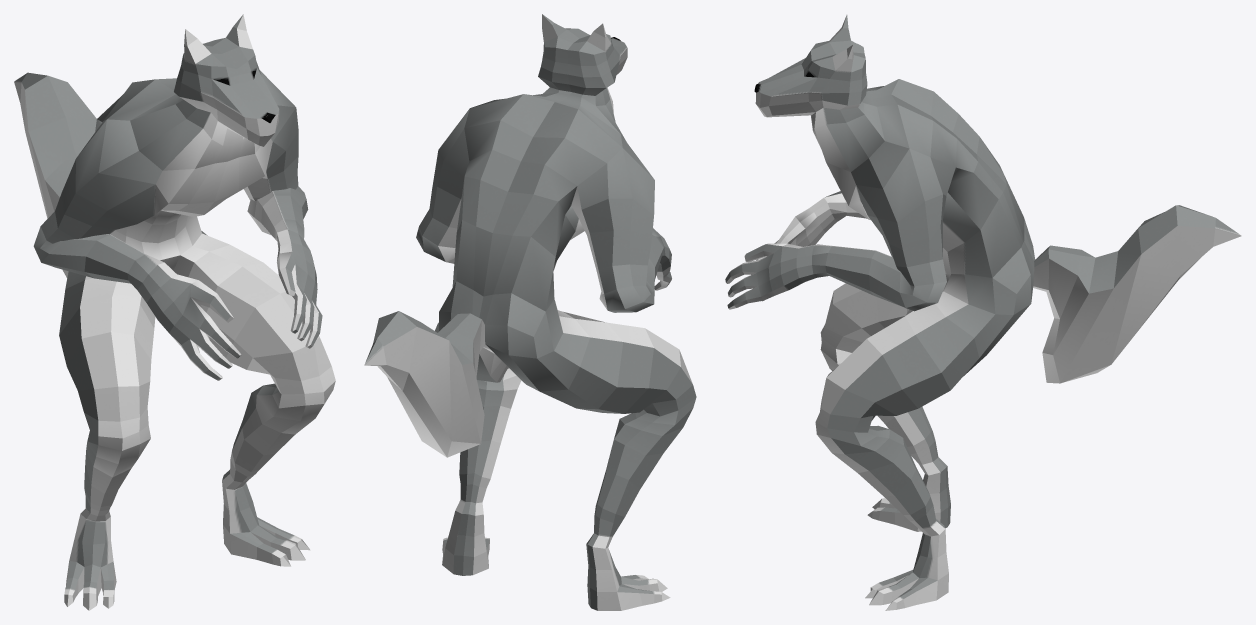
Rendered from WolfIdle_(137).obj.
The picture shows the model from 3 angles, left to right: view 1: azimuth 30°, elevation 25°; view 2: azimuth 150°, elevation 25°; view 3: azimuth 270°, elevation 25°; orthographic projection. The views are drawn at different scales.
Visible parts, largest first — view 1: Box001; view 2: Box001; view 3: Box001.
Part boxes in pixels (left/top/right/bottom): Box001: left=14, top=14, right=335, bottom=610; Box001: left=364, top=14, right=696, bottom=610; Box001: left=725, top=15, right=1241, bottom=610.
Bounding box in the file's own units: 61.16 × 131 × 115.
